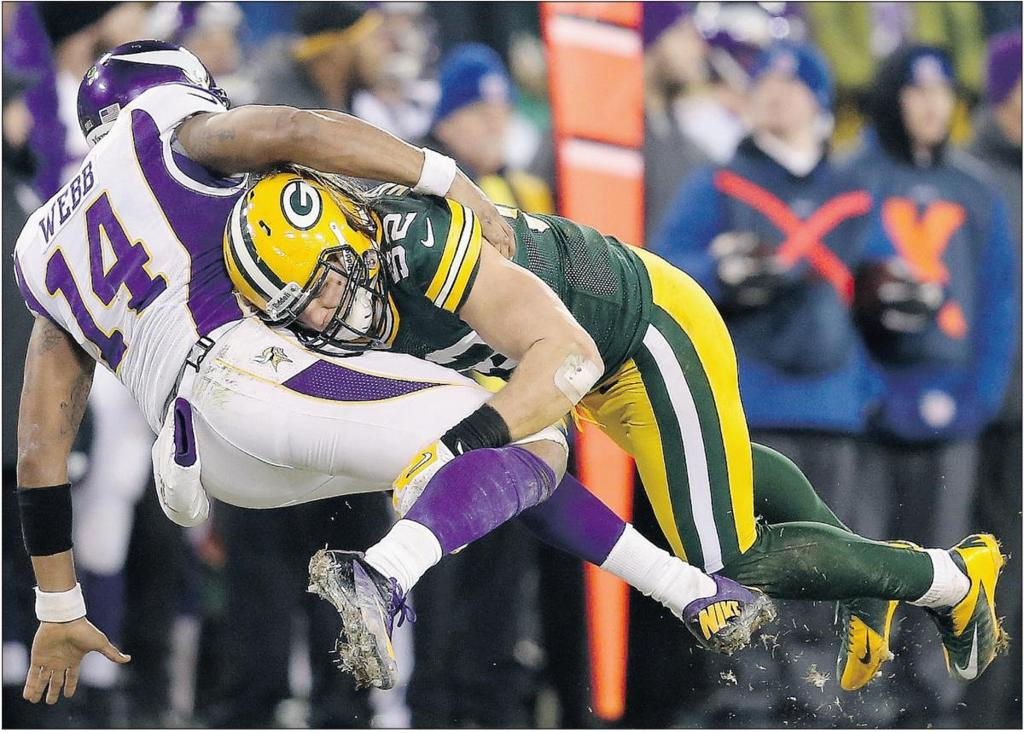face: (274, 248, 398, 350)
